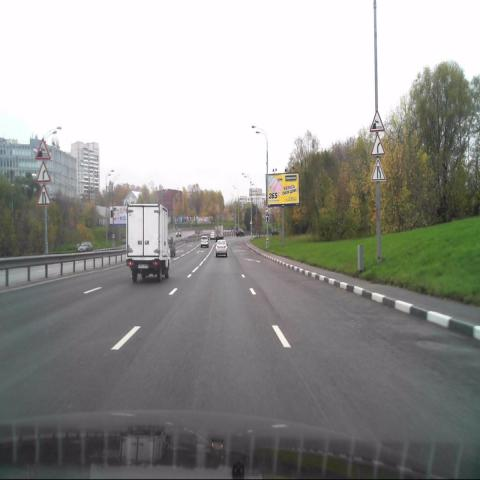1_10: (370, 110, 384, 131)
1_11: (371, 134, 384, 154)
1_20_2: (372, 159, 386, 182)
